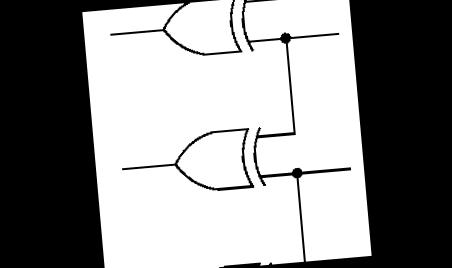xor: (164, 121, 272, 202), (154, 0, 258, 66)
